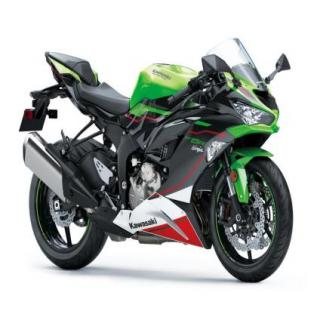Motocicleta: (12, 30, 300, 286)
